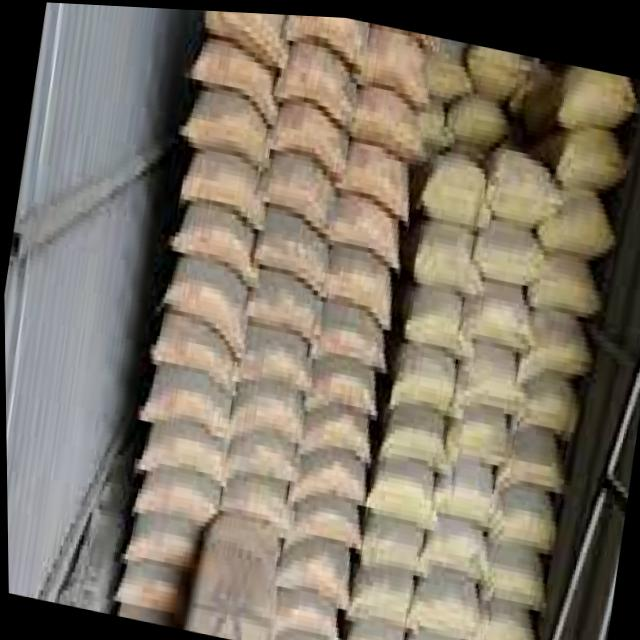cement_bag: (189, 509, 275, 621), (163, 261, 240, 358), (257, 145, 334, 236), (182, 157, 265, 238), (252, 215, 324, 298), (279, 49, 346, 134), (190, 95, 266, 169), (350, 78, 420, 155), (209, 9, 285, 78), (357, 35, 425, 109), (149, 380, 226, 442), (338, 147, 404, 219), (329, 200, 395, 270), (283, 12, 362, 69), (314, 304, 379, 371), (142, 436, 221, 490), (131, 519, 204, 577), (395, 351, 456, 416), (115, 564, 180, 624), (235, 339, 304, 395), (228, 400, 300, 452), (368, 471, 430, 530), (408, 582, 470, 640), (286, 507, 356, 557), (280, 549, 340, 607), (351, 569, 409, 628), (465, 287, 525, 343), (531, 260, 593, 313), (526, 325, 585, 380), (416, 231, 469, 292), (302, 409, 366, 459), (566, 64, 629, 114), (494, 158, 549, 215), (468, 39, 524, 94), (564, 133, 623, 184), (429, 167, 483, 222), (384, 417, 440, 470), (493, 500, 551, 550), (405, 302, 461, 353), (421, 534, 483, 578), (489, 556, 538, 611), (499, 442, 556, 489), (458, 367, 514, 414), (479, 226, 534, 273), (546, 204, 609, 245), (362, 531, 416, 578), (439, 475, 488, 520), (519, 387, 569, 431), (480, 603, 529, 640), (446, 95, 506, 125), (342, 626, 397, 640), (272, 631, 328, 640)
